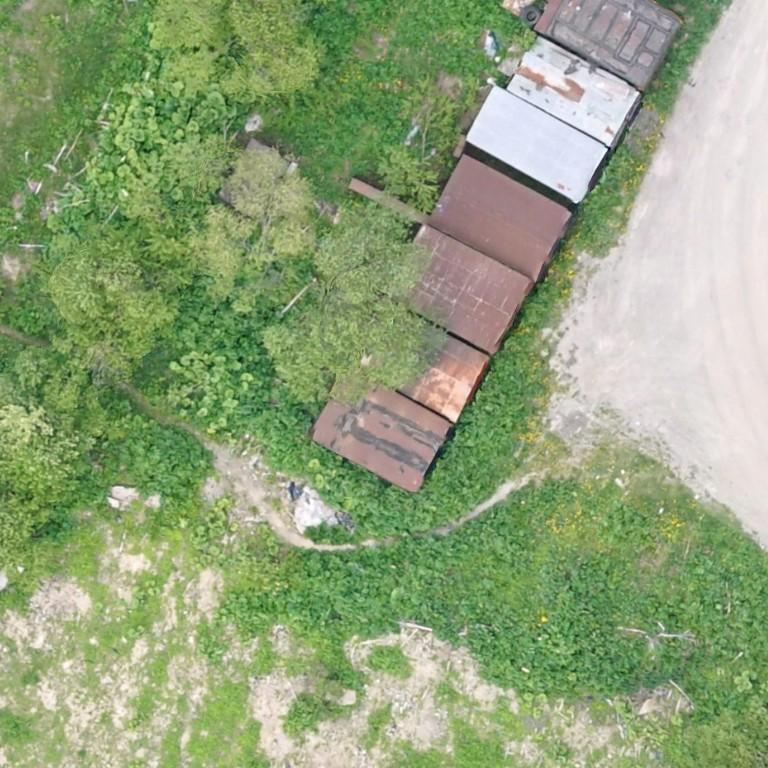hogweed: (231, 480, 767, 725), (176, 284, 544, 537), (327, 62, 405, 153), (118, 419, 207, 494), (523, 282, 557, 324), (304, 522, 355, 545)
